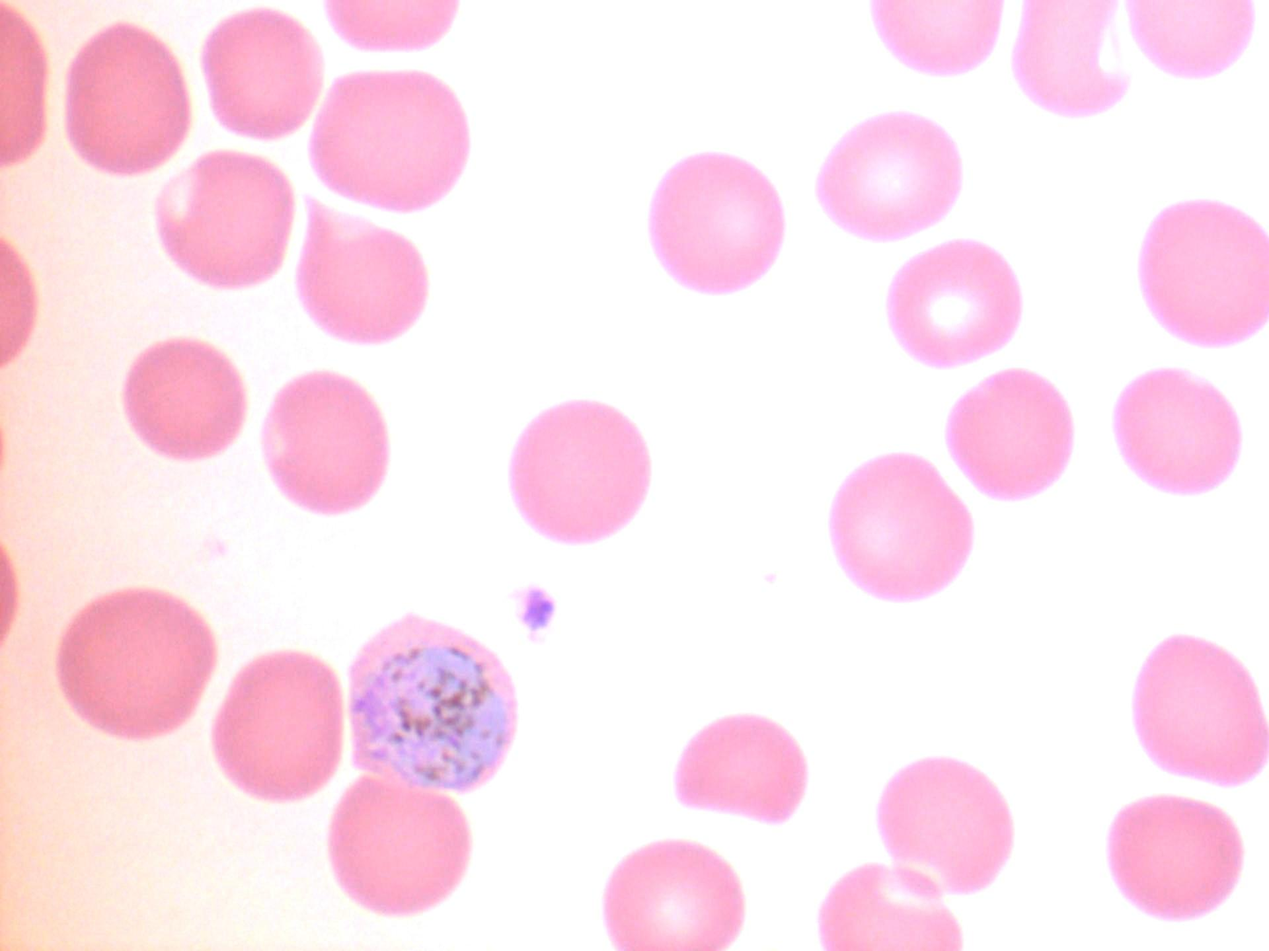Infected: (344, 613, 521, 795)
Uninfected: (53, 587, 216, 740), (313, 71, 471, 213), (829, 454, 974, 602), (1130, 635, 1268, 789), (509, 406, 654, 547), (1136, 199, 1269, 347), (156, 150, 296, 290), (328, 778, 471, 915), (211, 654, 343, 802), (647, 151, 785, 292), (64, 23, 192, 174), (814, 112, 962, 241), (877, 757, 1013, 896), (298, 201, 427, 346), (259, 371, 389, 514), (885, 238, 1023, 367), (946, 368, 1074, 500), (1106, 796, 1241, 919), (1113, 368, 1242, 496), (203, 9, 325, 139), (602, 840, 743, 951), (122, 337, 249, 460), (674, 713, 806, 827), (1014, 3, 1131, 118), (820, 863, 962, 949), (1129, 0, 1251, 77), (874, 3, 1001, 75)
